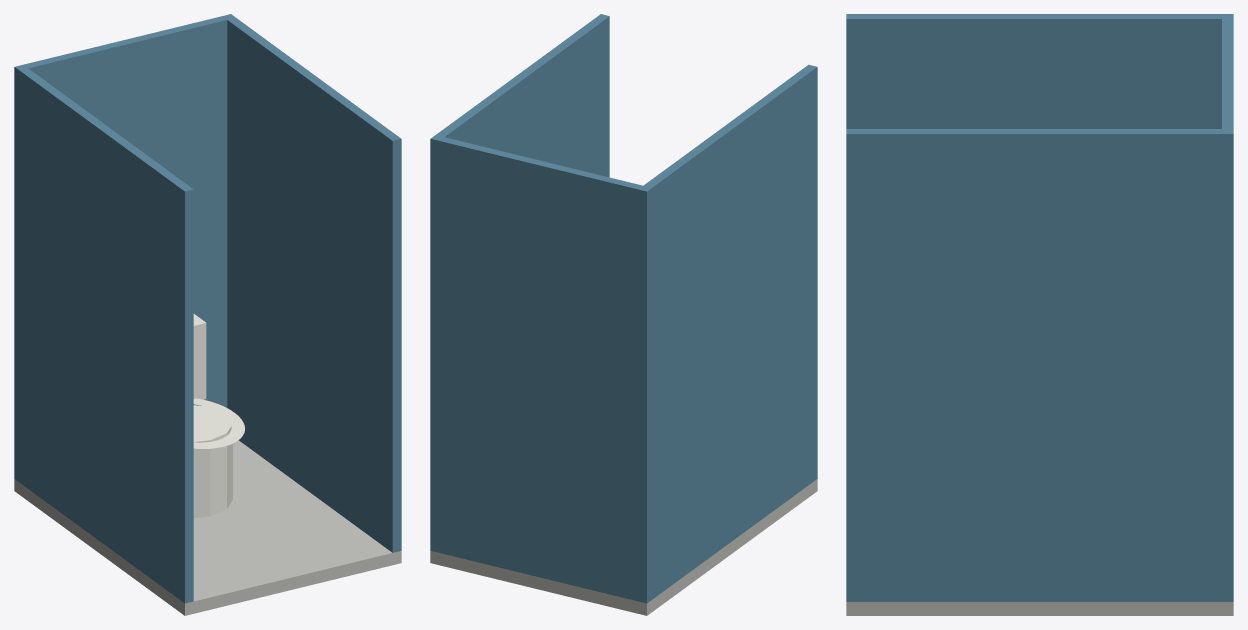
Rendered from toilet-stall-4d622ba7.glb.
3 views of the same model, side by side, from view 1: azimuth 30°, elevation 25°; view 2: azimuth 150°, elevation 25°; view 3: azimuth 270°, elevation 25° (orthographic). The views are drawn at different scales.
Visible parts, largest first — view 1: toilet-stall; view 2: toilet-stall; view 3: toilet-stall.
Part boxes in pixels (x1,y1,x2,y2): toilet-stall: (14, 14, 401, 615); toilet-stall: (430, 14, 817, 615); toilet-stall: (846, 14, 1233, 615).
Bounding box in the file's own units: 1.1 × 2.06 × 1.5.
